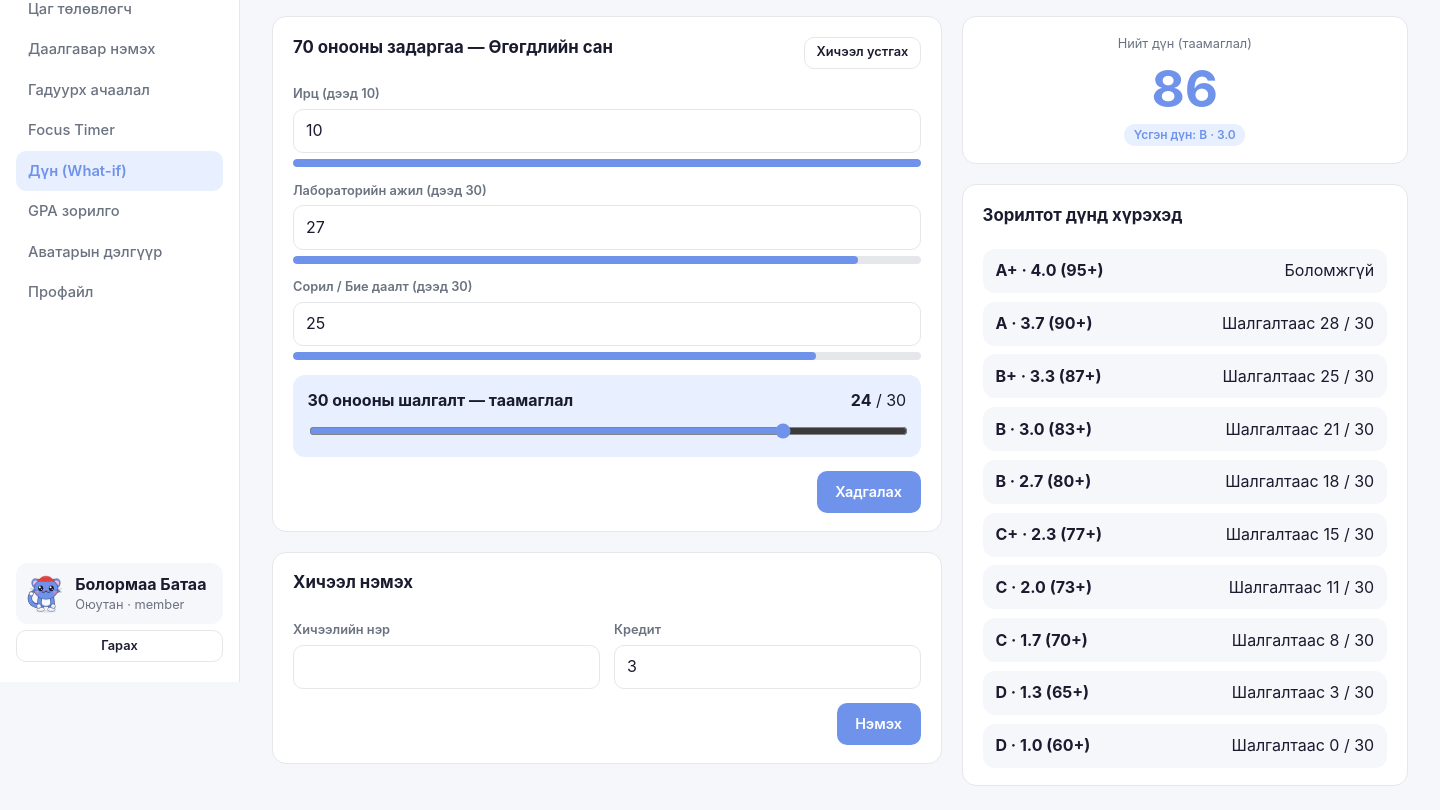
Test case: grades page › adds a course through the existing mock store
(page scrolled)
Type "Шинэ хичээл" into the field with test id "field-courseName". click: (446, 667)
box: [293,644,600,689]
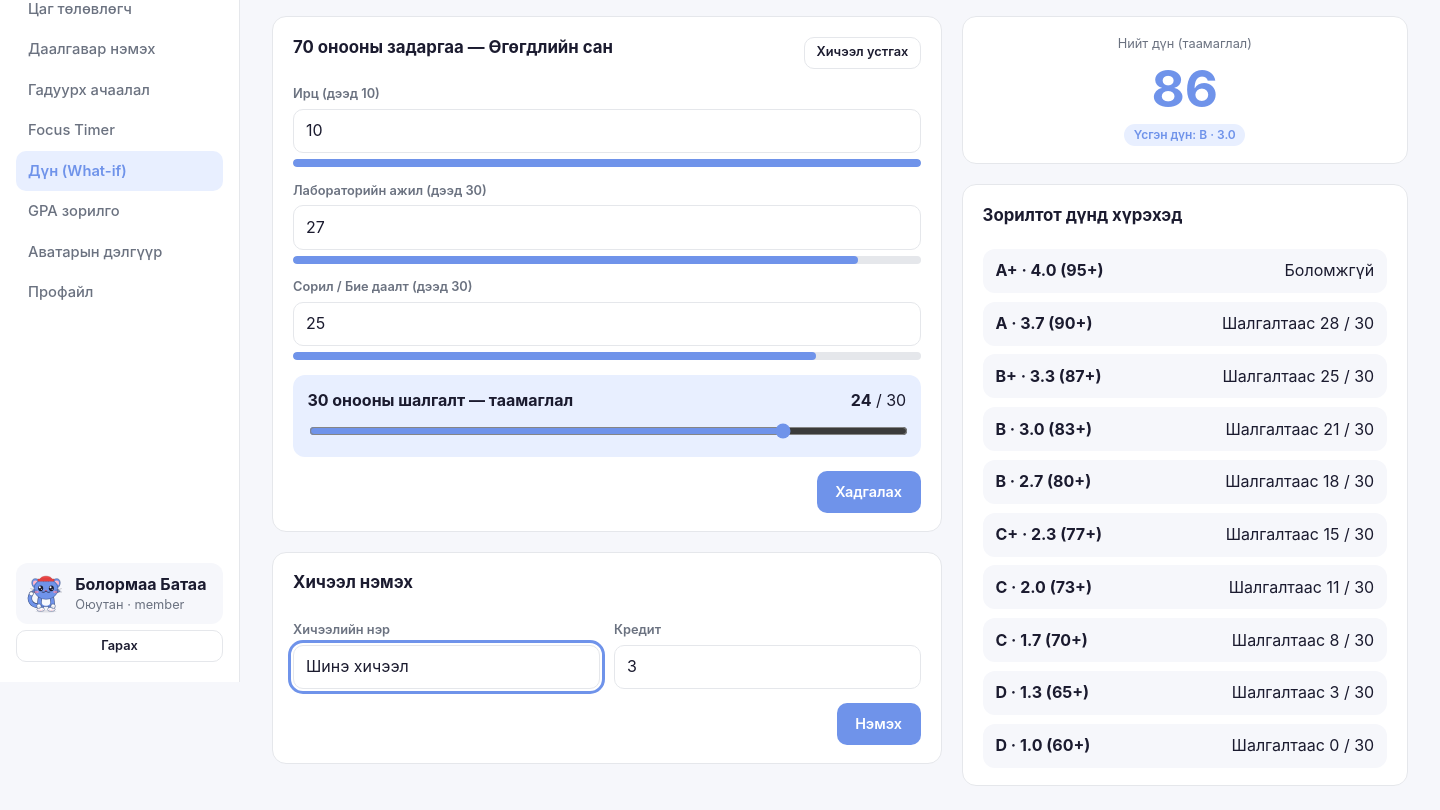
Click the button "Нэмэх". click: click(879, 724)
box: [836,703,921,745]
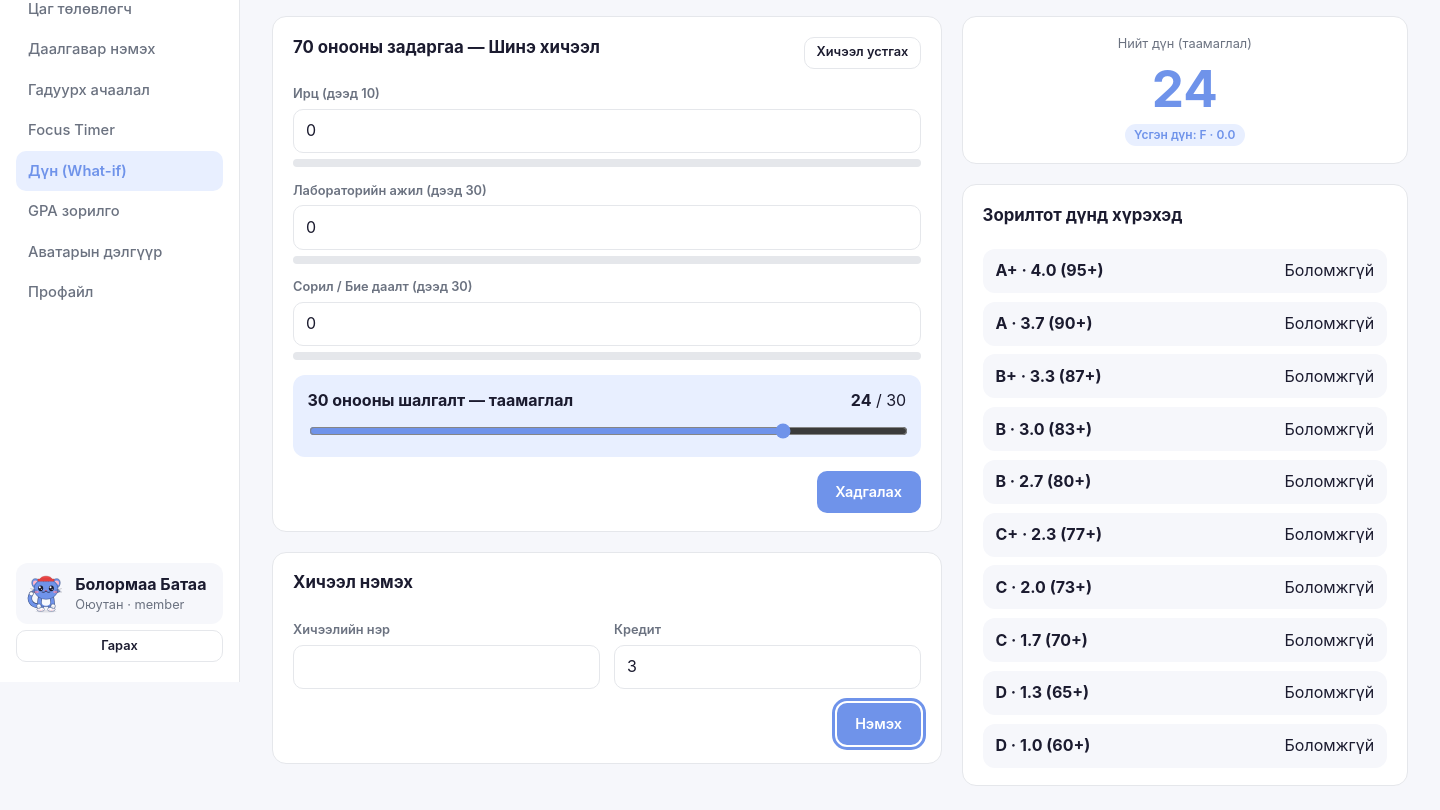
Check: the heading "70 онооны задаргаа — Шинэ хичээл" is shown, box [293,35,600,59]
